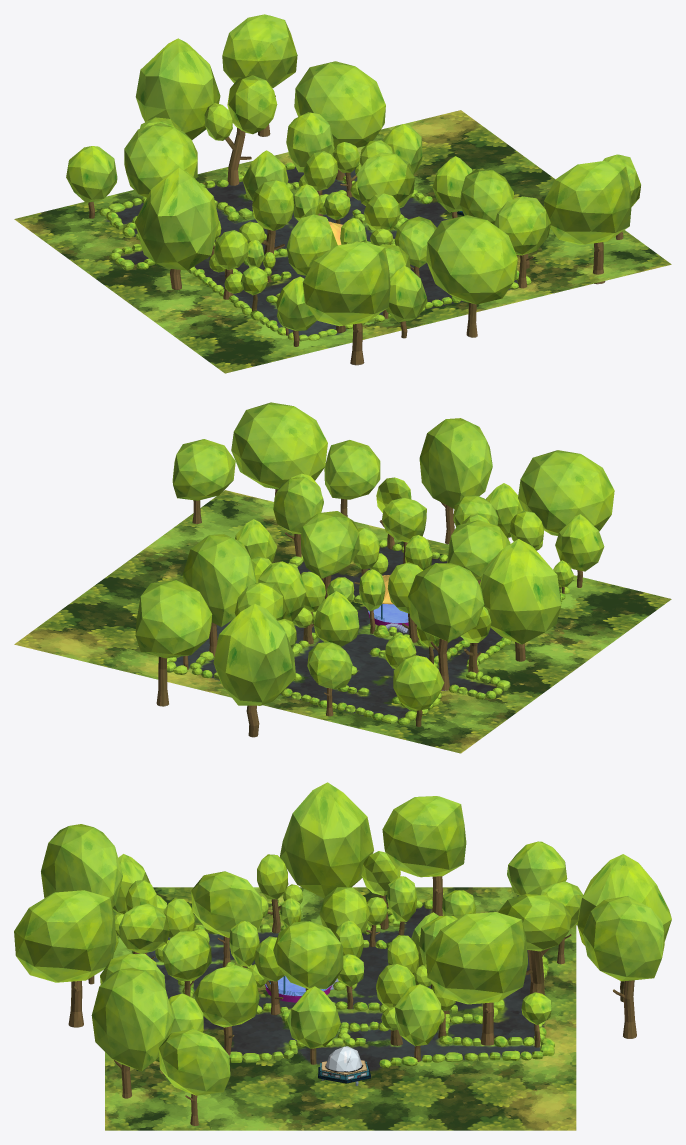
File: EScenarioParque.fbx
3 views of the same model, one above another, from view 1: azimuth 30°, elevation 25°; view 2: azimuth 150°, elevation 25°; view 3: azimuth 270°, elevation 25° (orthographic). The views are drawn at different scales.
Parts seen in each view (by area): view 1: Plane001, arbol031, arbol030, arbol029, arbol041, arbol035, arbol047, arbol046, arbol034, arbol02, arbol018, arbol01 (+22 smaller); view 2: Plane001, arbol047, arbol030, arbol041, arbol029, arbol046, arbol031, arbol02, arbol035, arbol042, arbol016, arbol018 (+22 smaller); view 3: Plane001, arbol031, arbol035, arbol030, arbol041, arbol046, arbol02, arbol029, arbol042, arbol016, arbol006, arbol047 (+30 smaller).
Part boxes in pixels (<box>): Plane001: <box>14,110,671,373</box>; arbol031: <box>426,215,517,337</box>; arbol030: <box>134,167,219,289</box>; arbol029: <box>302,242,390,365</box>; arbol041: <box>544,161,631,284</box>; arbol035: <box>294,61,385,180</box>; arbol047: <box>135,38,220,139</box>; arbol046: <box>222,14,297,136</box>; arbol034: <box>204,75,277,185</box>; arbol02: <box>124,123,197,197</box>; arbol018: <box>494,196,550,288</box>; arbol01: <box>239,179,294,255</box>; Plane001: <box>14,490,671,753</box>; arbol047: <box>213,603,296,737</box>; arbol030: <box>479,539,561,661</box>; arbol041: <box>231,402,327,495</box>; arbol029: <box>518,450,614,535</box>; arbol046: <box>135,580,212,706</box>; arbol031: <box>419,418,492,544</box>; arbol02: <box>408,563,484,690</box>; arbol035: <box>183,534,255,656</box>; arbol042: <box>172,439,235,523</box>; arbol016: <box>300,511,359,598</box>; arbol018: <box>324,440,380,516</box>; Plane001: <box>105,887,576,1130</box>; arbol031: <box>14,890,116,1027</box>; arbol035: <box>425,912,527,1045</box>; arbol030: <box>279,782,373,898</box>; arbol041: <box>91,967,173,1098</box>; arbol046: <box>583,896,664,1038</box>; arbol02: <box>382,796,466,915</box>; arbol029: <box>41,824,122,906</box>; arbol042: <box>158,1029,230,1125</box>; arbol016: <box>273,921,343,990</box>; arbol006: <box>191,871,262,967</box>; arbol047: <box>577,854,671,1002</box>.
Size of the model in its own units: 8583 by 2375 by 9677.
